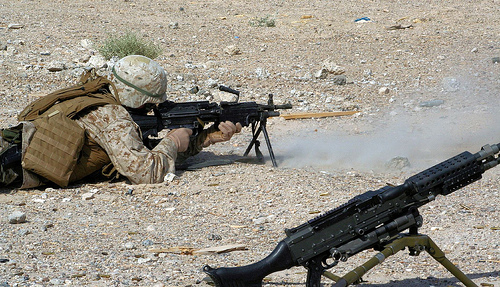rifle: (204, 150, 496, 287), (205, 89, 288, 133)
rifle in hand: (163, 90, 290, 170)
